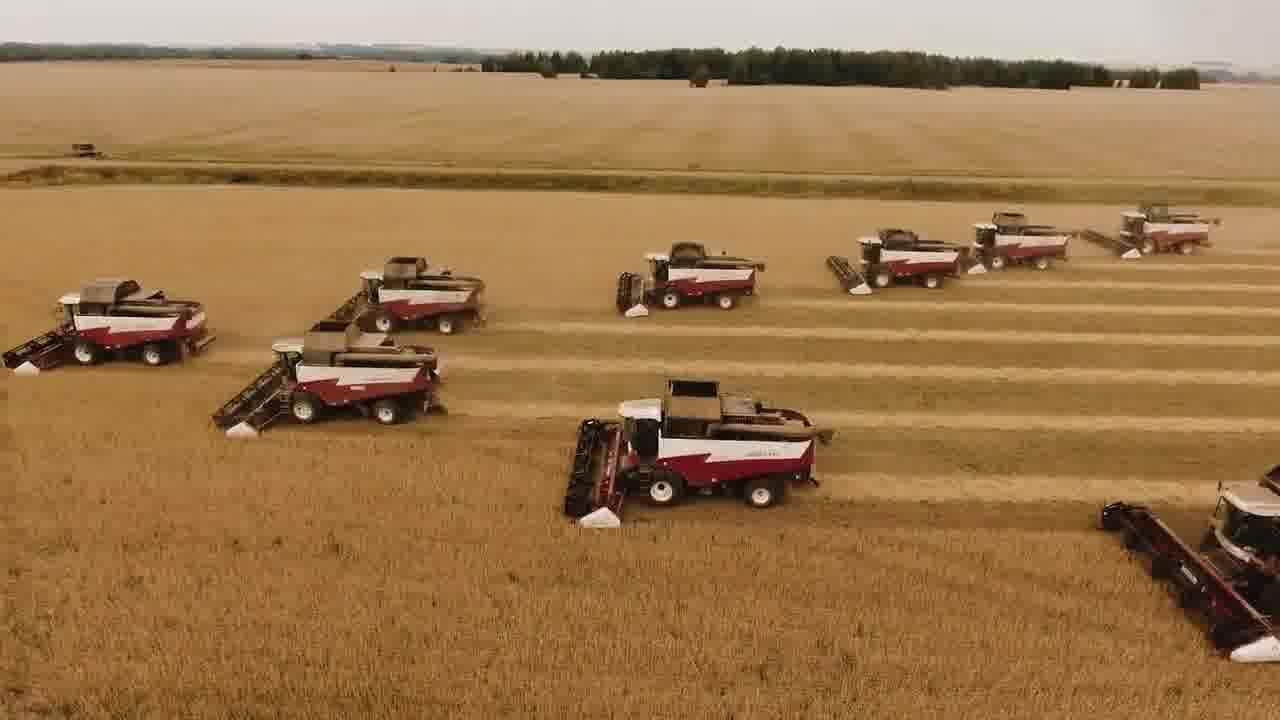combine harvester: (558, 372, 832, 536), (1099, 457, 1280, 666), (205, 319, 449, 441), (3, 269, 219, 380), (323, 253, 495, 336), (614, 236, 768, 323), (825, 224, 966, 300), (1078, 196, 1222, 267), (961, 205, 1074, 279)
